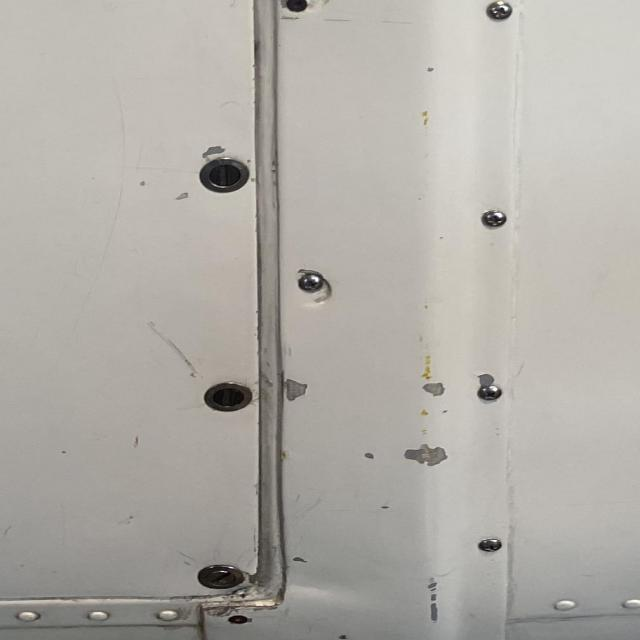Paint-off: (403, 446, 447, 466), (281, 377, 309, 402), (475, 373, 497, 390), (203, 143, 226, 159), (421, 382, 445, 397), (175, 192, 190, 202), (363, 453, 375, 460)
Scratch: (149, 323, 198, 380)
